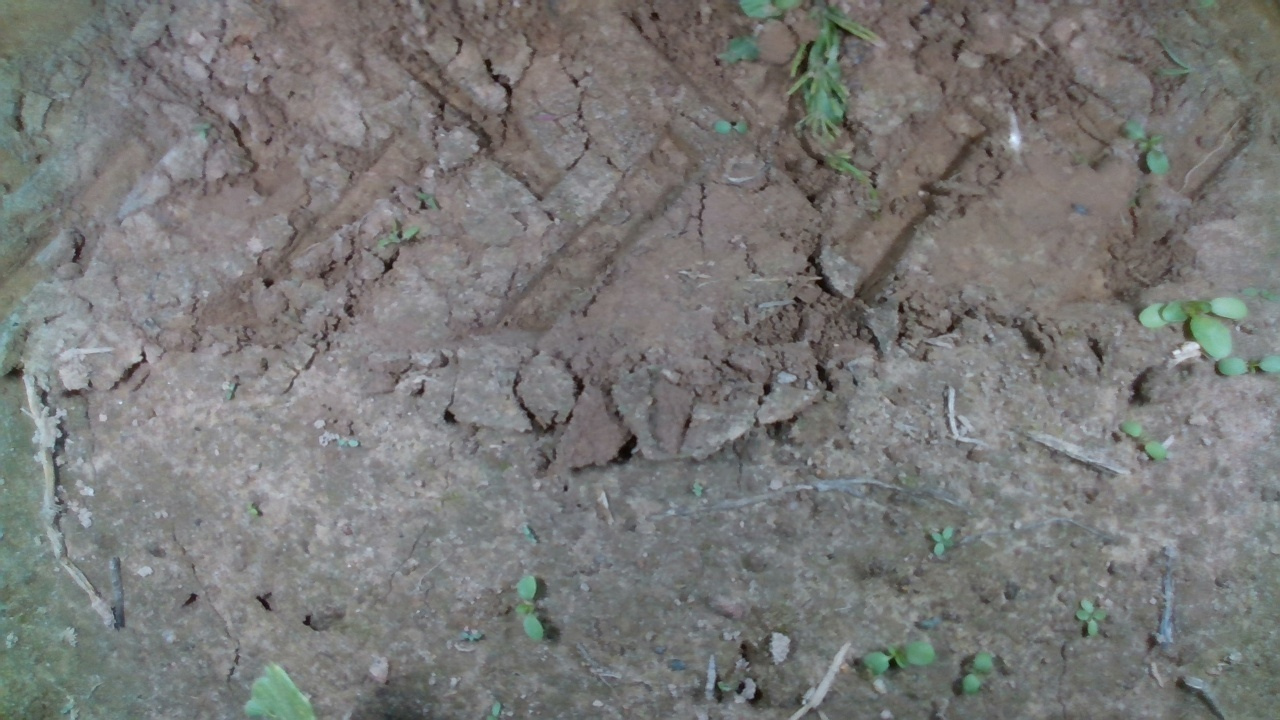weed: (1121, 119, 1172, 175), (859, 639, 935, 676), (514, 574, 544, 643), (1119, 419, 1167, 462), (960, 649, 993, 694), (1072, 596, 1107, 638), (930, 523, 955, 557), (710, 119, 749, 136), (690, 480, 703, 497)
